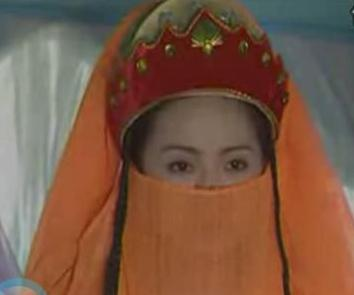OK: (155, 133, 267, 245)
